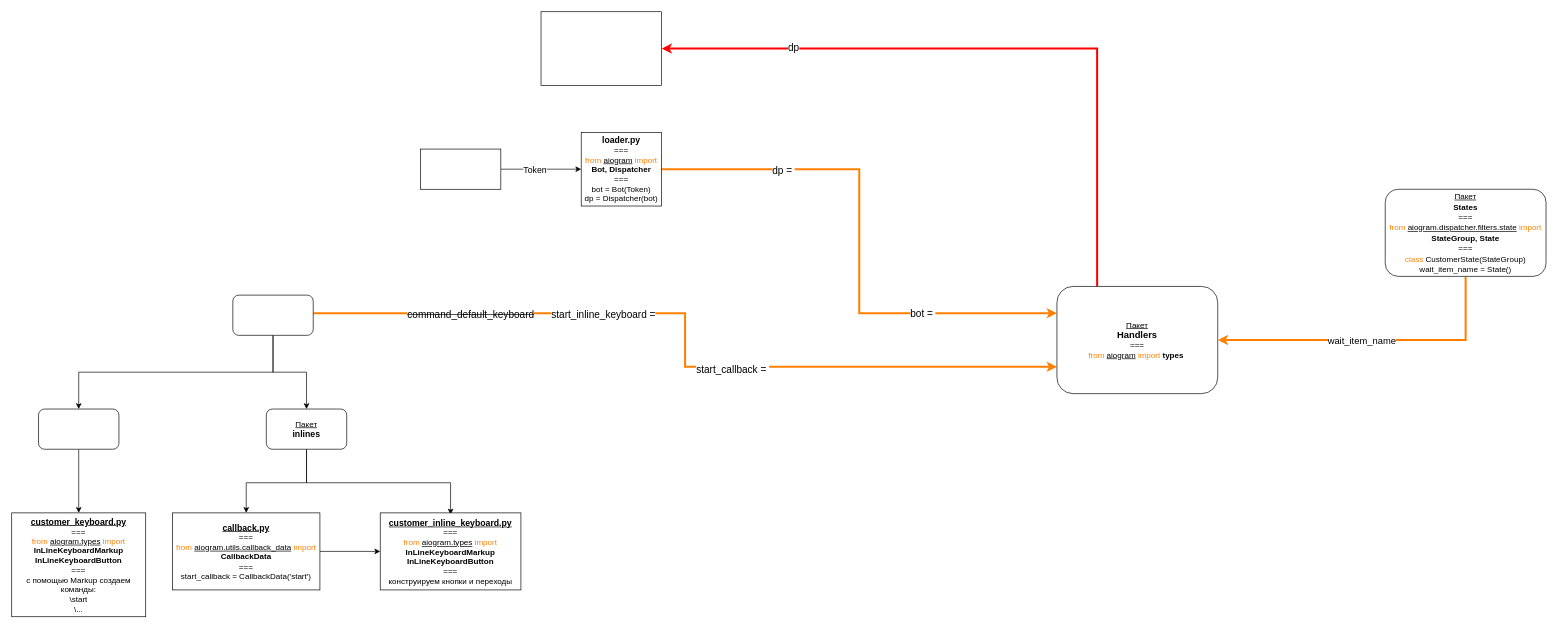
Image size: 1558x628. Some labels were removed from this diagram. Each missing label, with the centre of its shape:
app.py === from aiogram.utils import executor: the point at 601,48
config.py TOKEN: the point at 460,168
Пакет default: the point at 78,428
Пакет keyboards: the point at 272,314
